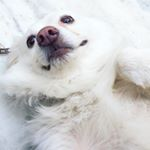puppy: (1, 6, 138, 114)
